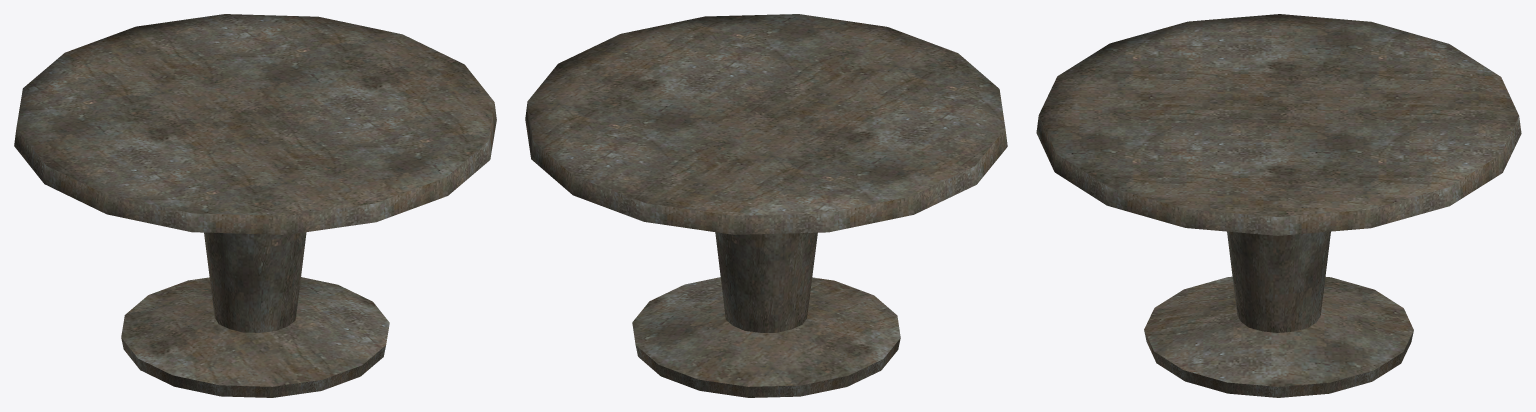
File: frn_tato_tbl_cafe_table_s01_l0.fbx
The picture shows the model from 3 angles, left to right: view 1: azimuth 30°, elevation 25°; view 2: azimuth 150°, elevation 25°; view 3: azimuth 270°, elevation 25°; orthographic projection.
Parts seen in each view (by area): view 1: mesh_node; view 2: mesh_node; view 3: mesh_node.
Boxes of the visible parts, x1=… form: mesh_node: x1=14, y1=14, x2=496, y2=397; mesh_node: x1=525, y1=14, x2=1007, y2=397; mesh_node: x1=1036, y1=14, x2=1521, y2=397.
Size of the model in its own units: 1.44 by 0.7503 by 1.44.
